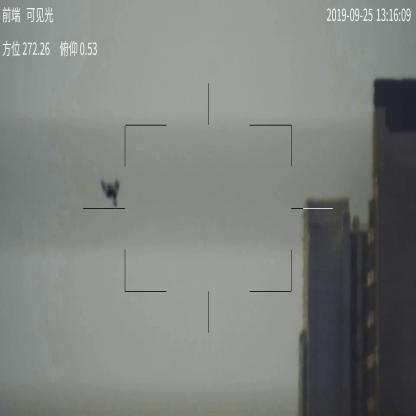uav: (100, 180, 120, 207)
